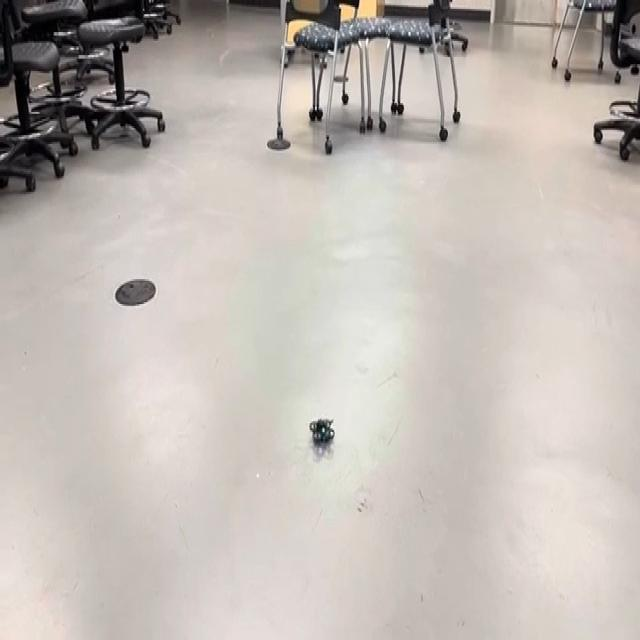drone: (303, 405, 340, 452)
